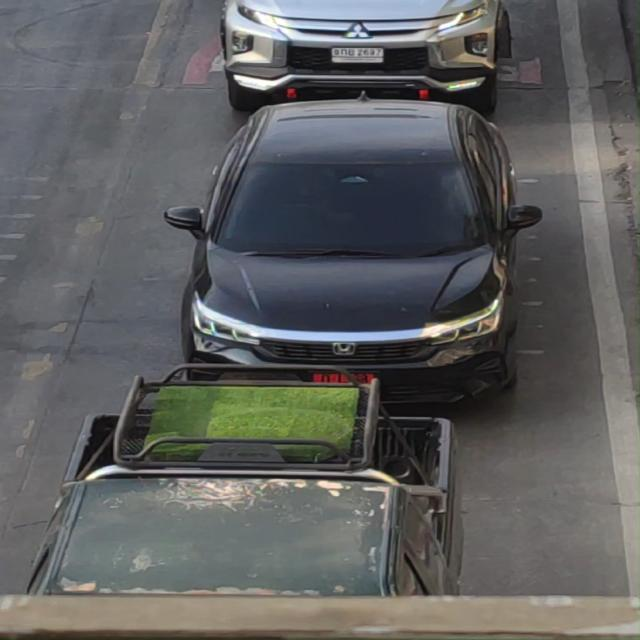car: (157, 92, 543, 414)
